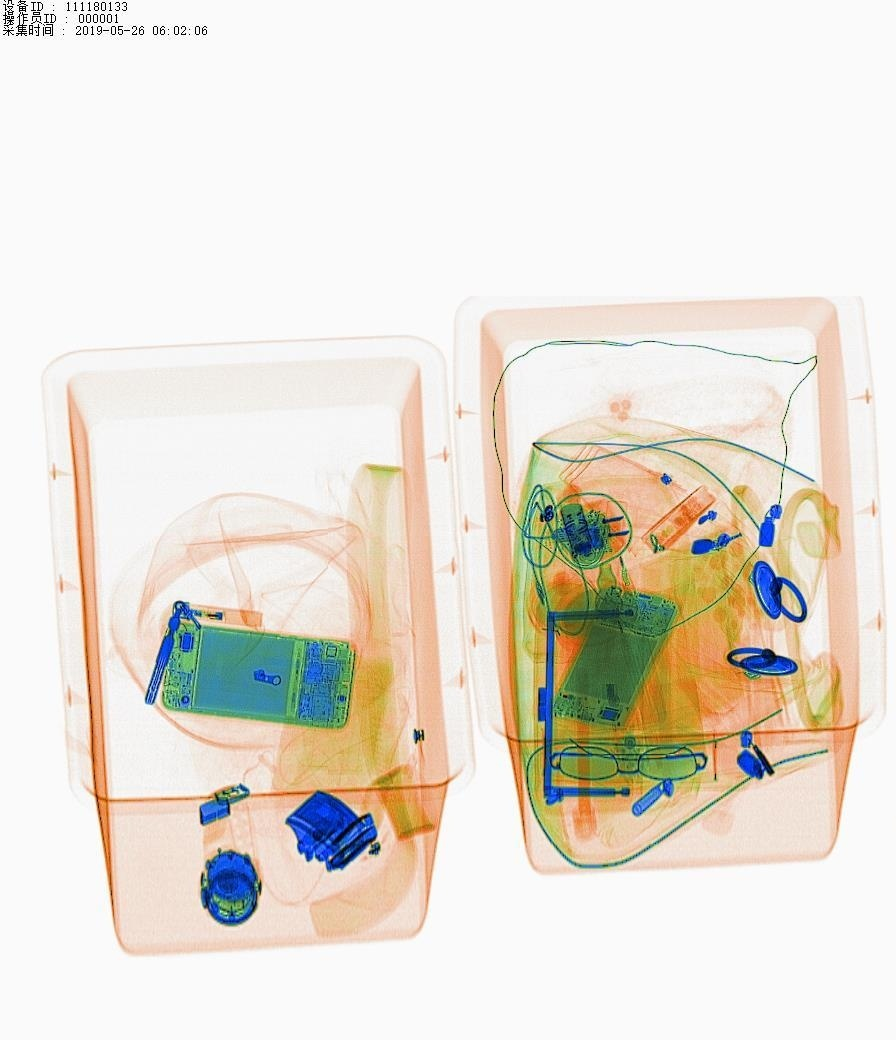NonmetallicFire: (158, 597, 275, 634)
